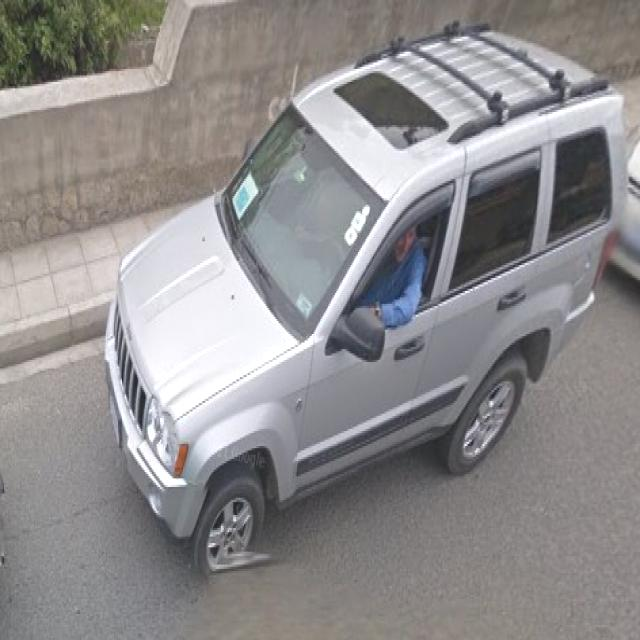car: (110, 32, 621, 568)
